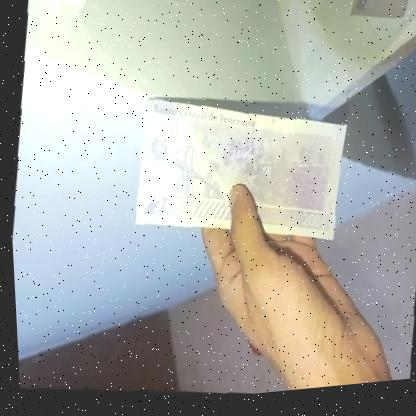vef_back: (124, 85, 354, 263)
